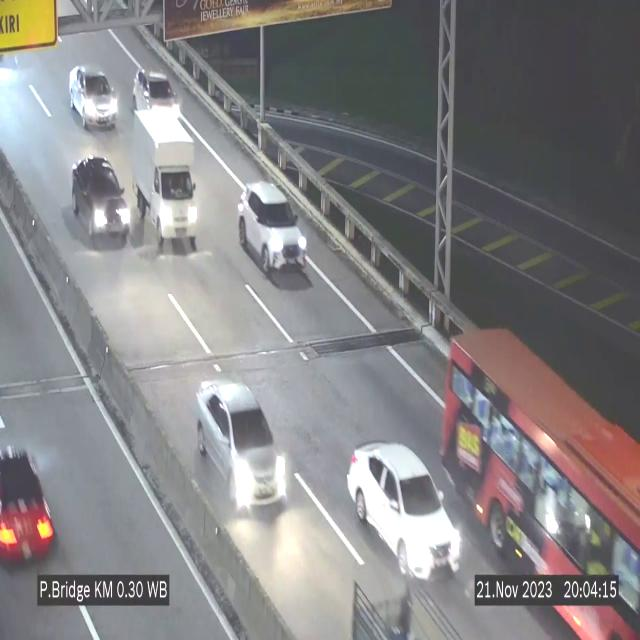Bus: (444, 303, 640, 640)
Car: (347, 441, 459, 579), (195, 380, 288, 510), (0, 422, 66, 582), (238, 182, 307, 278), (69, 152, 131, 244), (69, 64, 118, 129), (134, 67, 180, 119)
Truck: (133, 106, 199, 252), (346, 570, 473, 640)
